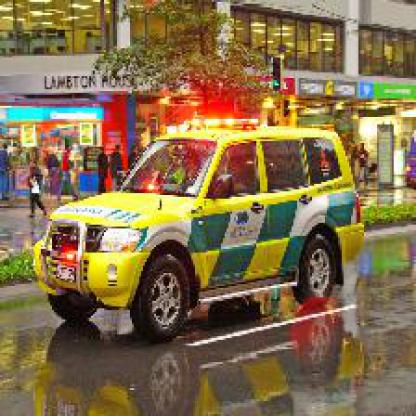emergency: (28, 112, 369, 344)
